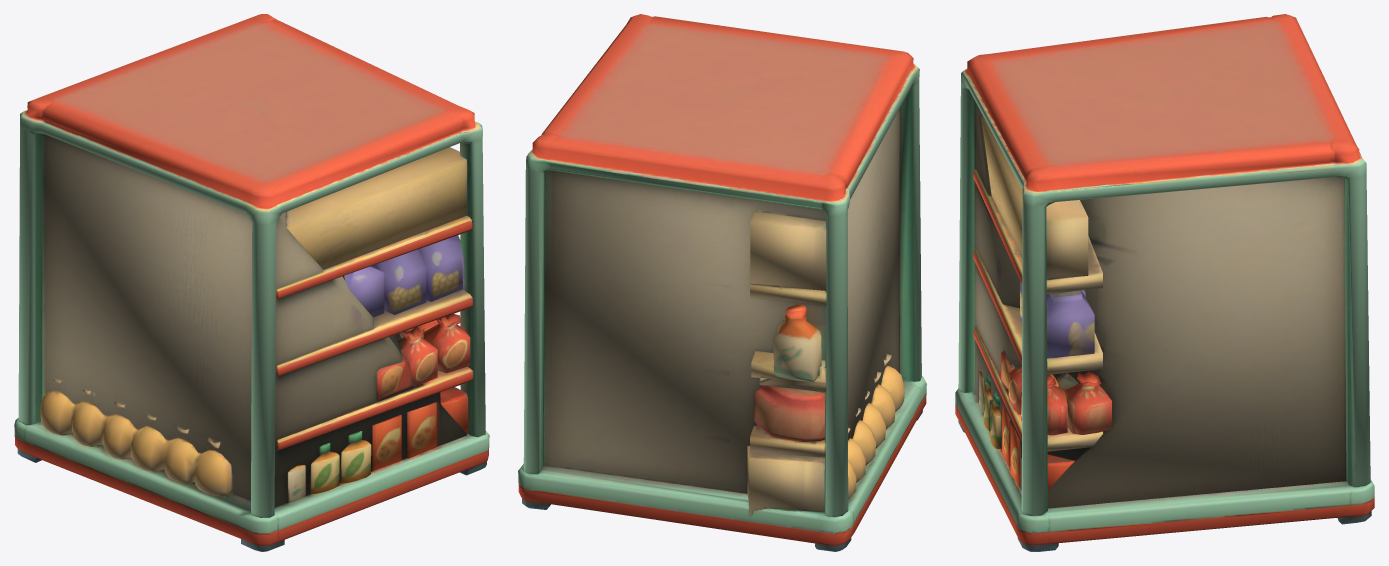
Rendered from shelf-corner.glb.
3 views of the same model, side by side, from view 1: azimuth 30°, elevation 25°; view 2: azimuth 150°, elevation 25°; view 3: azimuth 270°, elevation 25° (orthographic). The views are drawn at different scales.
Visible parts, largest first — view 1: Corner Grocery Shelf; view 2: Corner Grocery Shelf; view 3: Corner Grocery Shelf.
Boxes of the visible parts, bbox=[...] form: Corner Grocery Shelf: bbox=[14, 14, 489, 551]; Corner Grocery Shelf: bbox=[518, 14, 926, 551]; Corner Grocery Shelf: bbox=[955, 14, 1374, 551].
Size of the model in its own units: 0.998 by 0.9785 by 0.998.
1 material, 1 textured.
